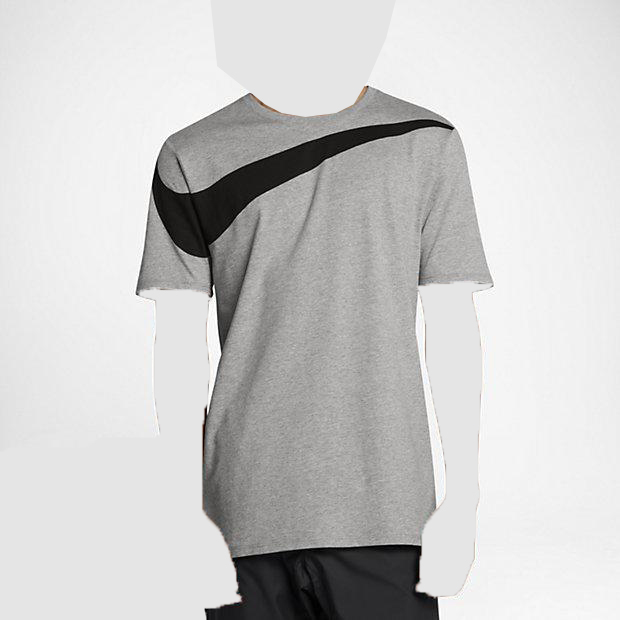teeshirt: (132, 84, 496, 560)
